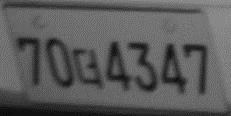0: (44, 37, 74, 88)
3: (127, 40, 159, 91)
4: (105, 40, 134, 93), (159, 42, 188, 93)
7: (180, 42, 210, 96), (14, 35, 43, 87)
더: (71, 47, 105, 91)
